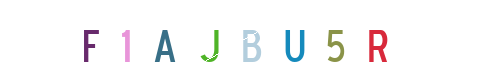1: (124, 0, 204, 80)
5: (255, 0, 335, 80)
A: (146, 0, 226, 80)
B: (204, 0, 284, 80)
F: (48, 0, 128, 80)
J: (204, 0, 284, 80)
R: (337, 0, 417, 80)
U: (245, 0, 325, 80)
